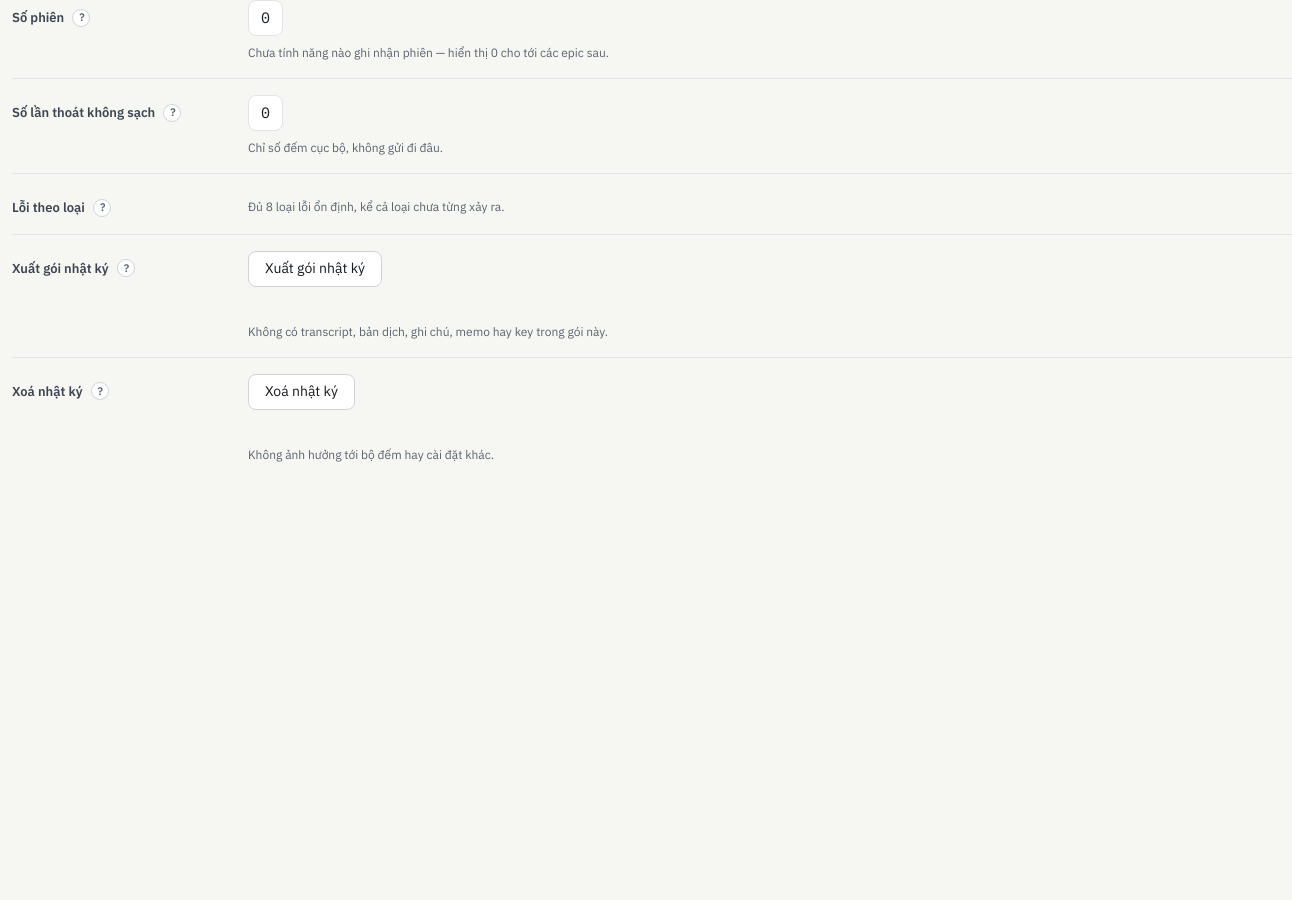
it: SettingsDiagnostics › exports the bundle and shows a success status
Click the button "Xuất gói nhật ký" at x=315, y=268, box [248,250,382,286]
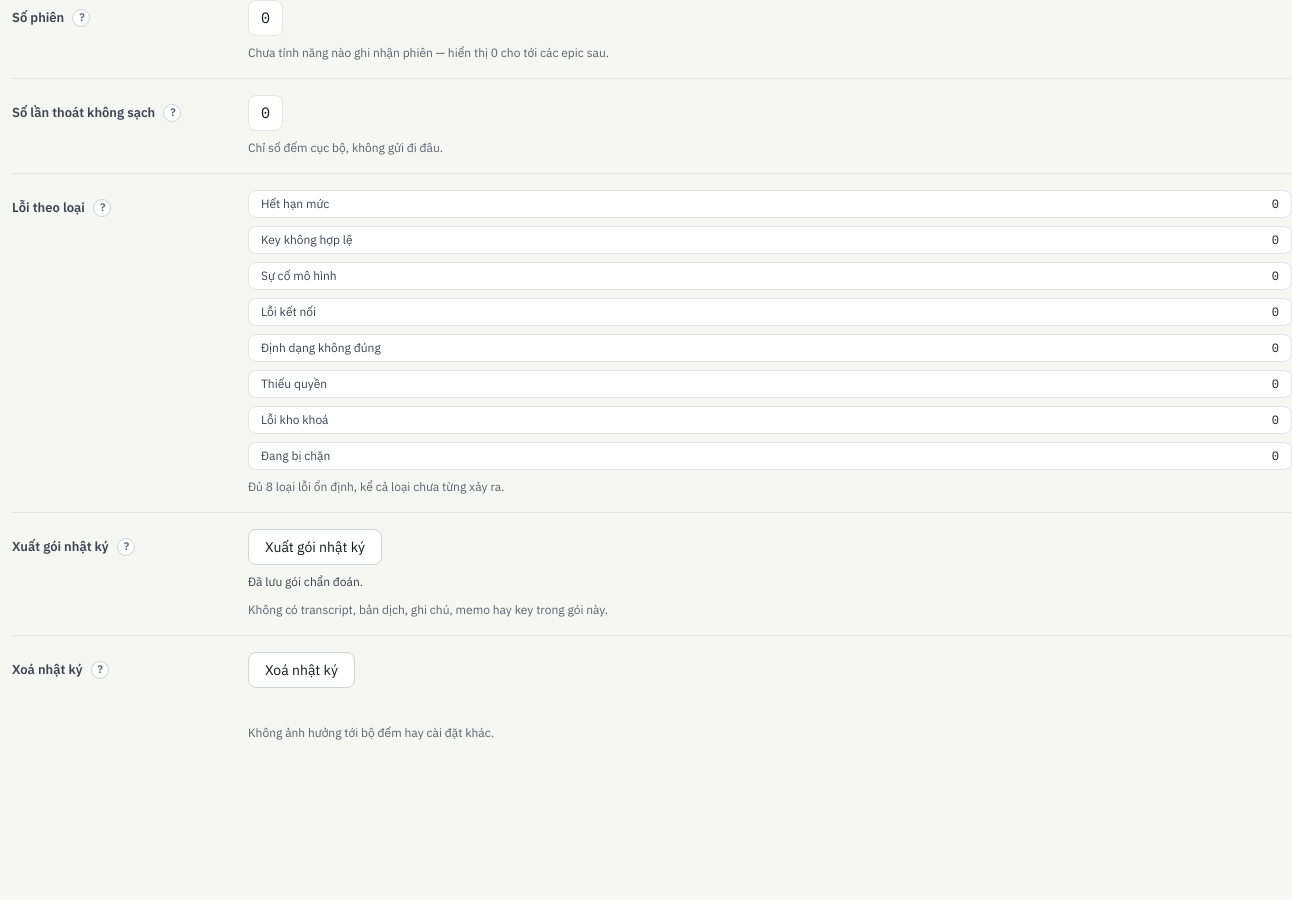
Check: the text "Đã lưu gói chẩn đoán." is shown, box [248,574,363,589]
